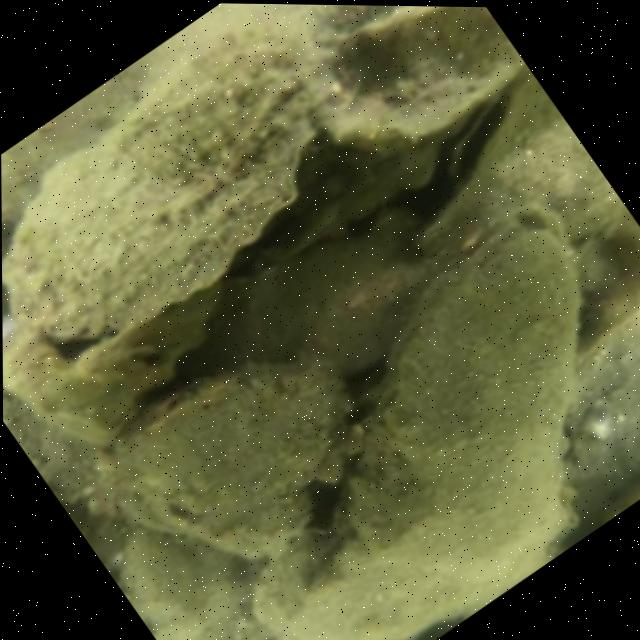Oyster-Closed: (324, 197, 581, 633)
Oyster-Indeterminate: (2, 9, 341, 342), (103, 361, 347, 559), (423, 82, 624, 256), (220, 217, 428, 373)
